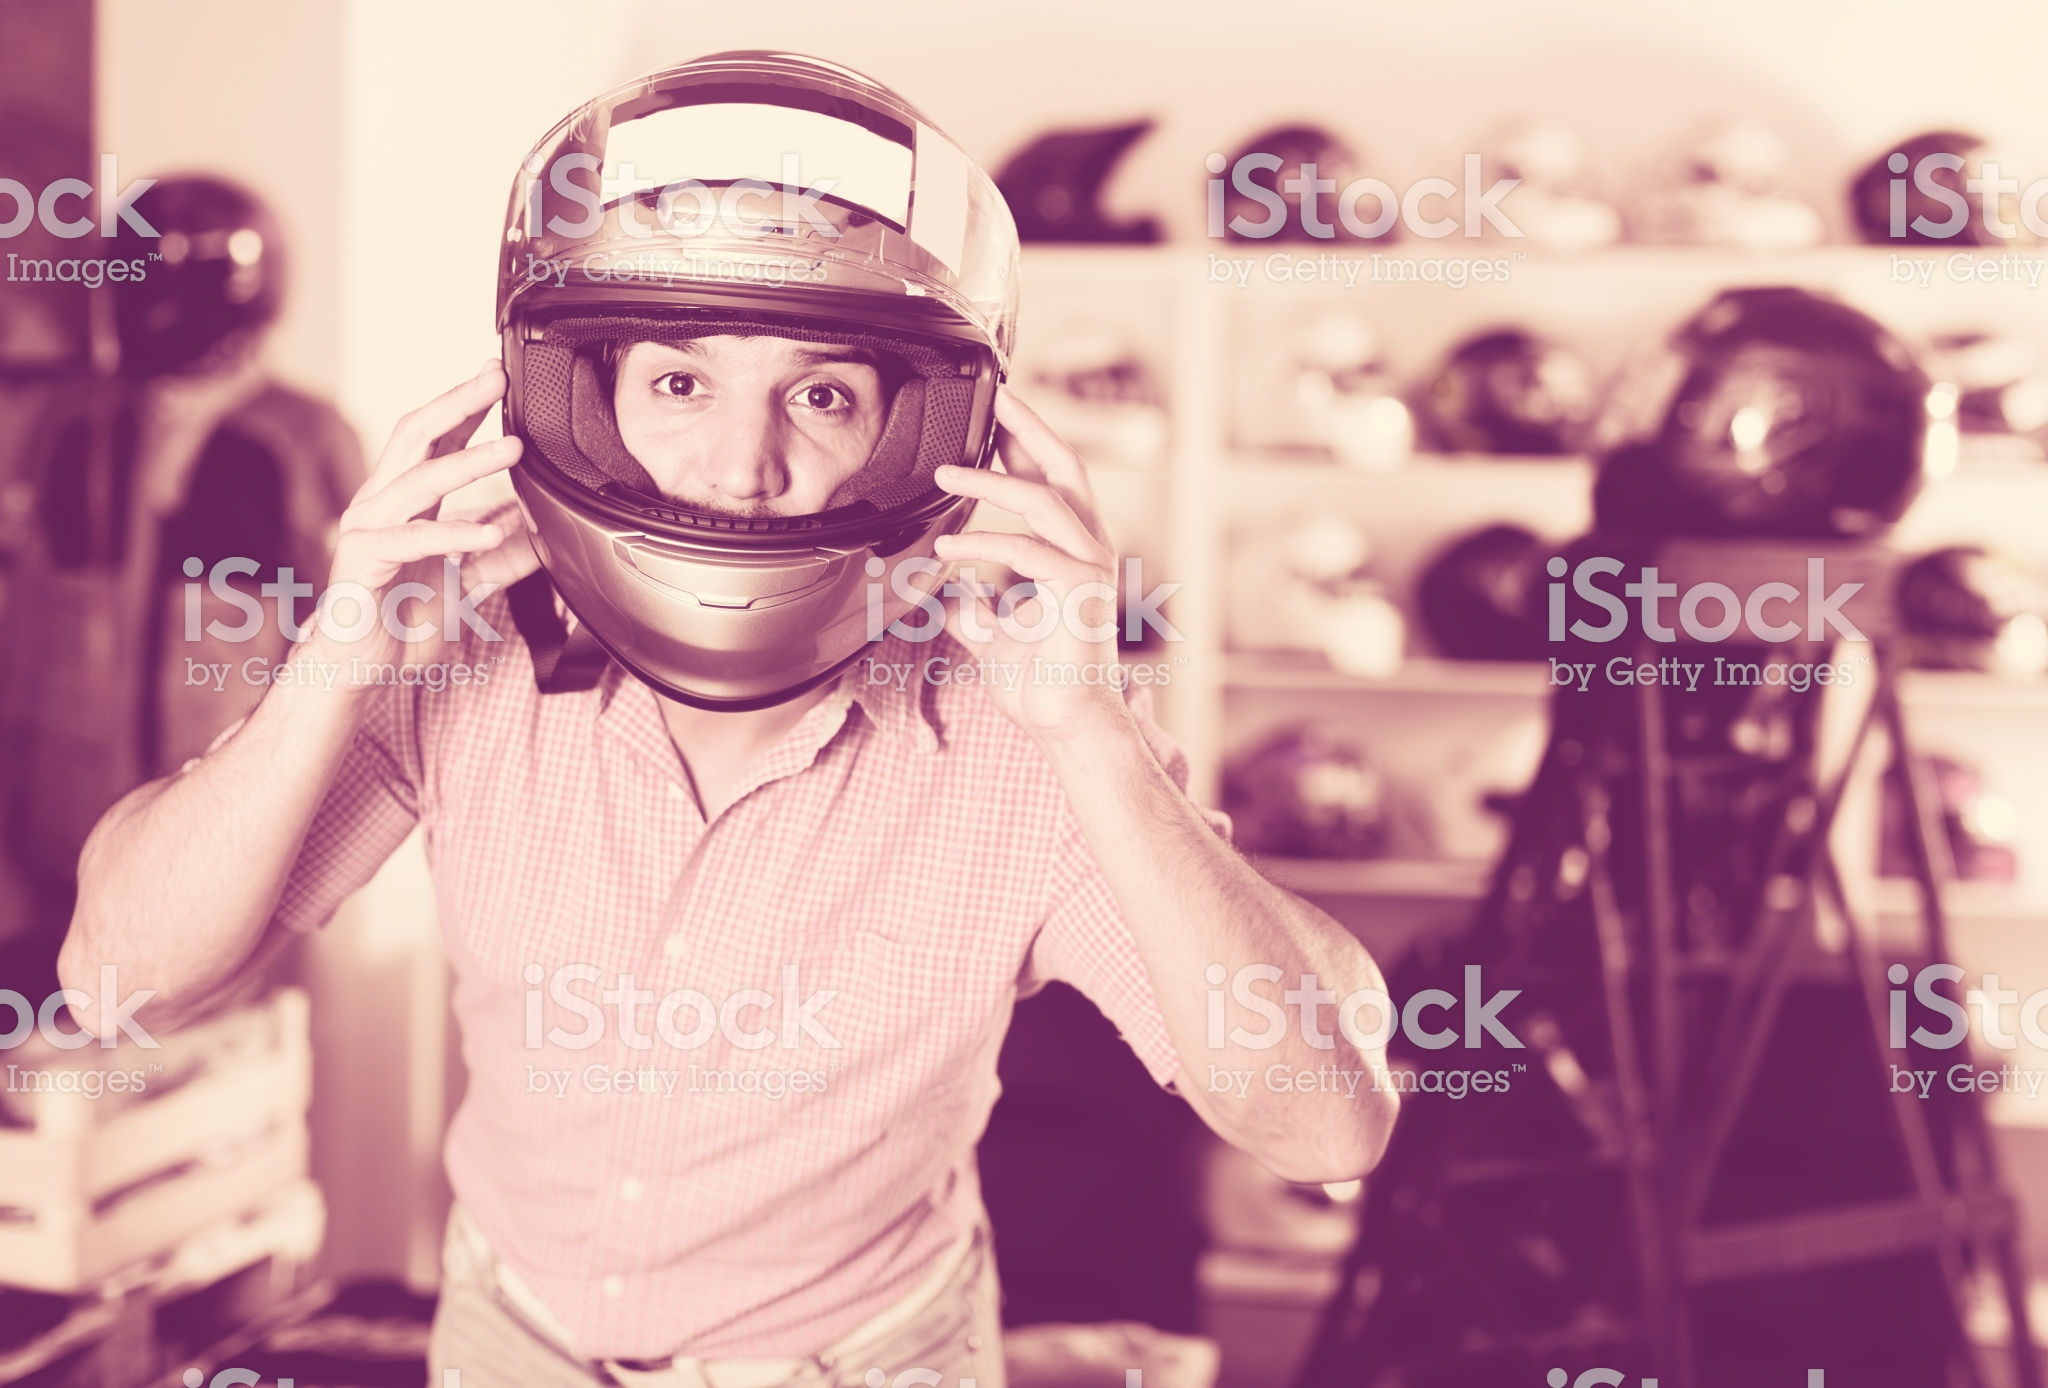helmet: (459, 94, 1049, 657)
